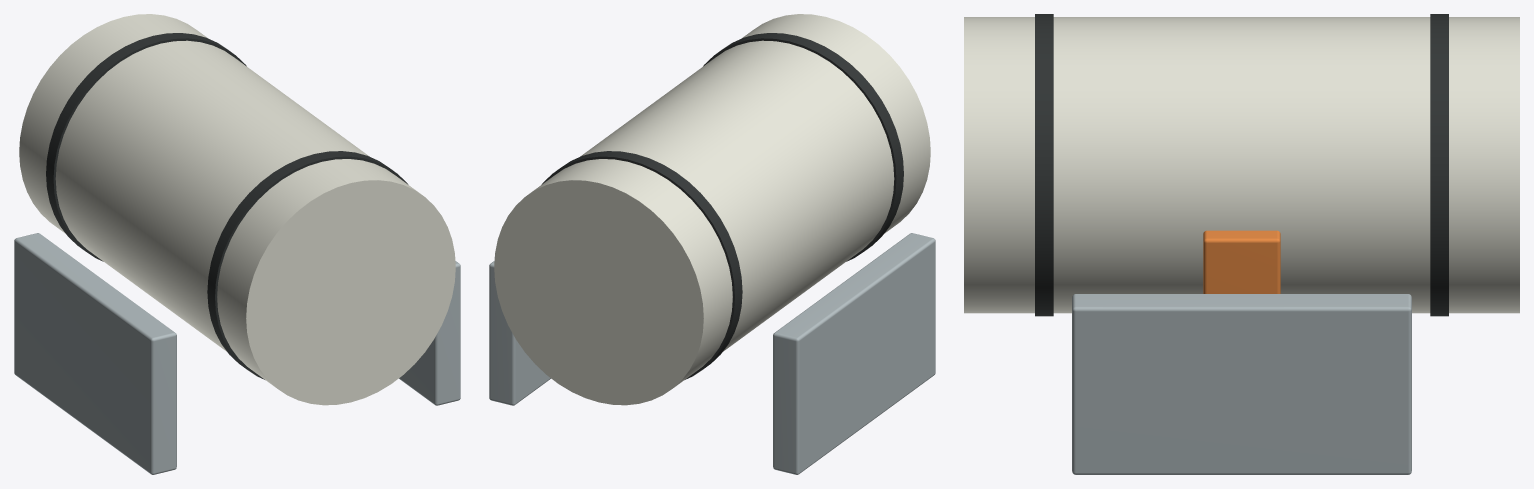
The model's file is feeder_liferaft.glb.
The picture shows the model from 3 angles, left to right: view 1: azimuth 30°, elevation 25°; view 2: azimuth 150°, elevation 25°; view 3: azimuth 270°, elevation 25°; orthographic projection. The views are drawn at different scales.
Visible parts, largest first — view 1: feeder_liferaft Warm white painted steel, feeder_liferaft Fixed_Galvanized, feeder_liferaft Fixed_Rubber; view 2: feeder_liferaft Warm white painted steel, feeder_liferaft Fixed_Galvanized, feeder_liferaft Fixed_Rubber; view 3: feeder_liferaft Warm white painted steel, feeder_liferaft Fixed_Galvanized, feeder_liferaft Fixed_Rubber, feeder_liferaft Fixed_FloatOrange.
Part boxes in pixels (x1=…): feeder_liferaft Warm white painted steel: x1=19, y1=14, x2=455, y2=405; feeder_liferaft Fixed_Galvanized: x1=14, y1=233, x2=460, y2=474; feeder_liferaft Fixed_Rubber: x1=46, y1=33, x2=408, y2=379; feeder_liferaft Warm white painted steel: x1=494, y1=14, x2=930, y2=405; feeder_liferaft Fixed_Galvanized: x1=489, y1=233, x2=935, y2=474; feeder_liferaft Fixed_Rubber: x1=541, y1=33, x2=903, y2=379; feeder_liferaft Warm white painted steel: x1=964, y1=17, x2=1519, y2=313; feeder_liferaft Fixed_Galvanized: x1=1072, y1=294, x2=1411, y2=474; feeder_liferaft Fixed_Rubber: x1=1035, y1=14, x2=1448, y2=316; feeder_liferaft Fixed_FloatOrange: x1=1203, y1=230, x2=1280, y2=293.
Bounding box in the file's own units: 1.42 × 1.27 × 1.8.
